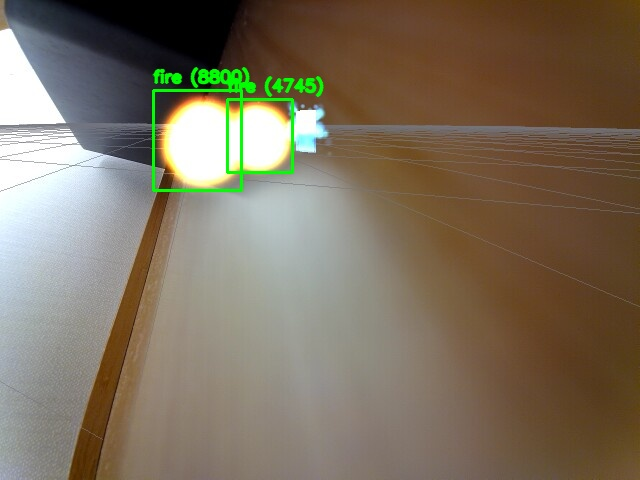fire: (153, 90, 241, 190), (227, 99, 292, 172)
